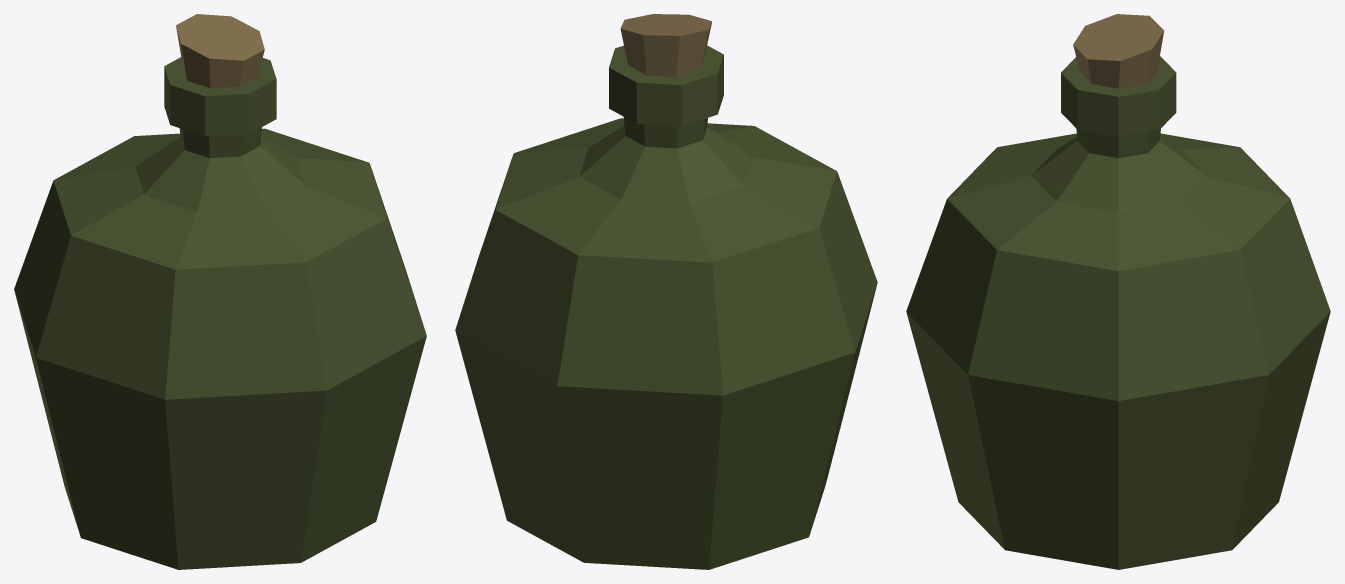
The model's file is SM_Item_Bottle_02.glb.
The picture shows the model from 3 angles, left to right: view 1: azimuth 30°, elevation 25°; view 2: azimuth 150°, elevation 25°; view 3: azimuth 270°, elevation 25°; orthographic projection. The views are drawn at different scales.
Visible parts, largest first — view 1: SM_Item_Bottle_02; view 2: SM_Item_Bottle_02; view 3: SM_Item_Bottle_02.
Part boxes in pixels (bbox=[...]): SM_Item_Bottle_02: bbox=[14, 14, 426, 569]; SM_Item_Bottle_02: bbox=[455, 14, 877, 569]; SM_Item_Bottle_02: bbox=[906, 14, 1330, 569].
Bounding box in the file's own units: 0.00206 × 0.00253 × 0.00206.
